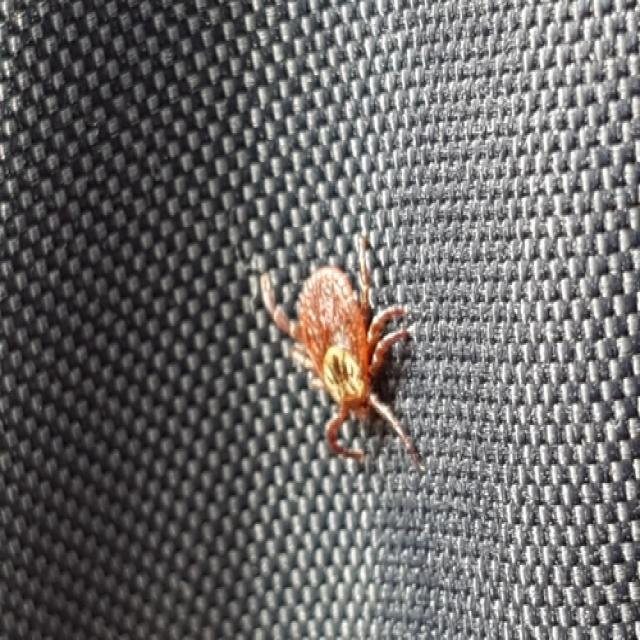Dermacentor Reticulatus-F: (259, 237, 422, 468)
